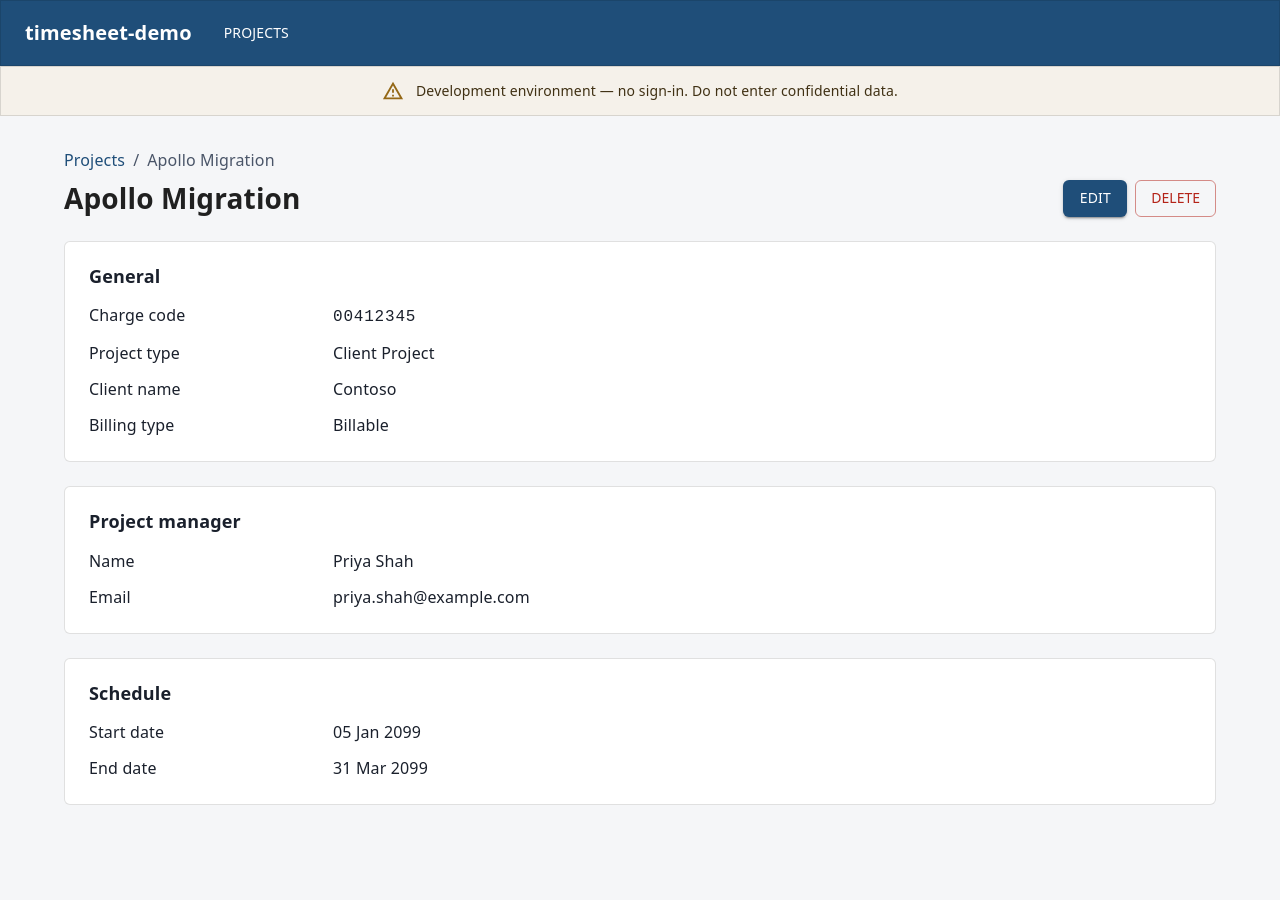
Test case: DeleteProjectDialog › shows "Project not found" for a 404
The image size is (1280, 900).
Check: the heading "Apollo Migration" is shown, box [64, 182, 301, 215]
What coordinates should you click on to do the following:
click the button "Delete"
I would click on:
 (1176, 198)
Its box is [1135, 180, 1216, 216].
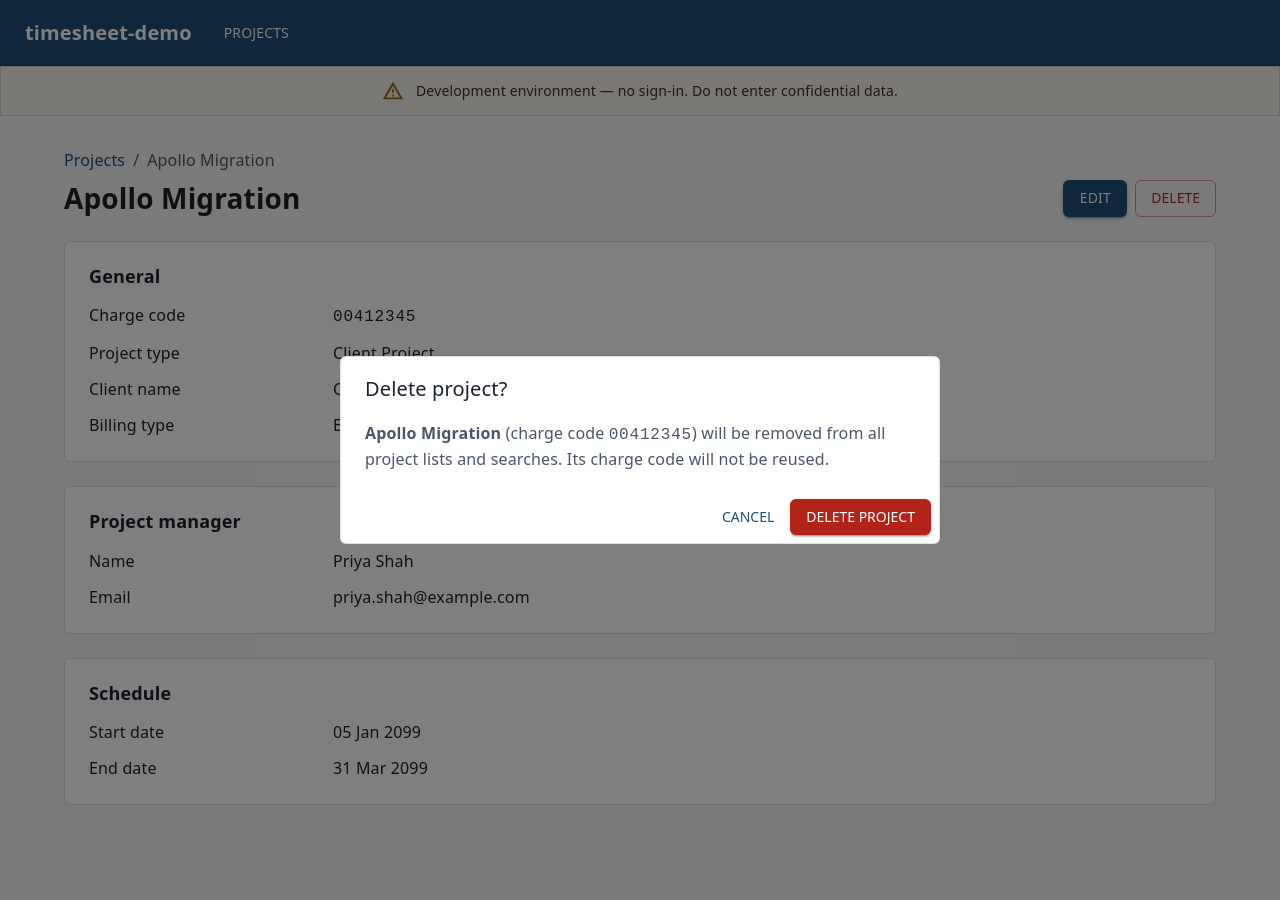
What coordinates should you click on to do the following:
click the button "Delete project"
I would click on:
 (861, 517)
Its box is [790, 499, 931, 535].
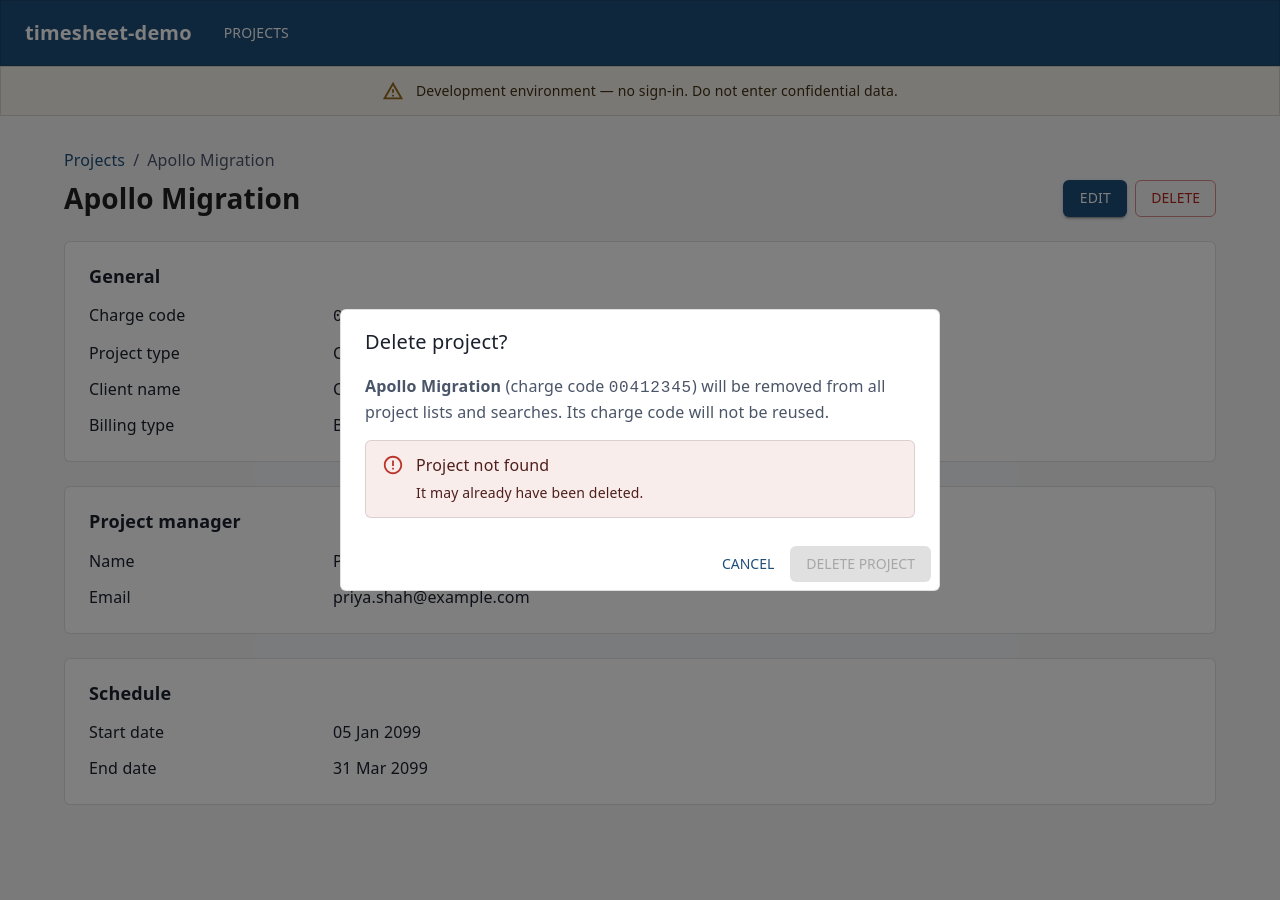
Check: the text "Project not found" is shown, box [416, 454, 549, 476]
